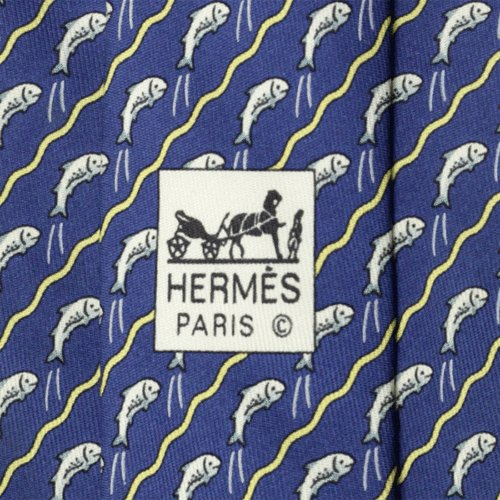HERMES: (162, 174, 308, 349)
